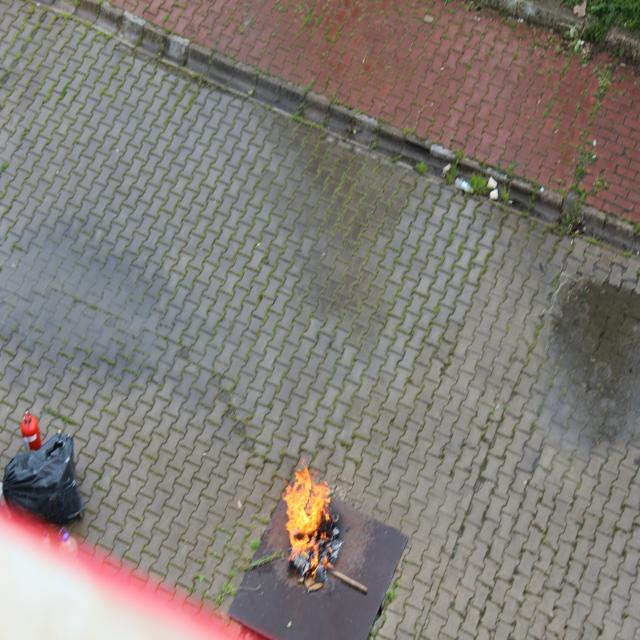fire: (283, 454, 336, 564)
